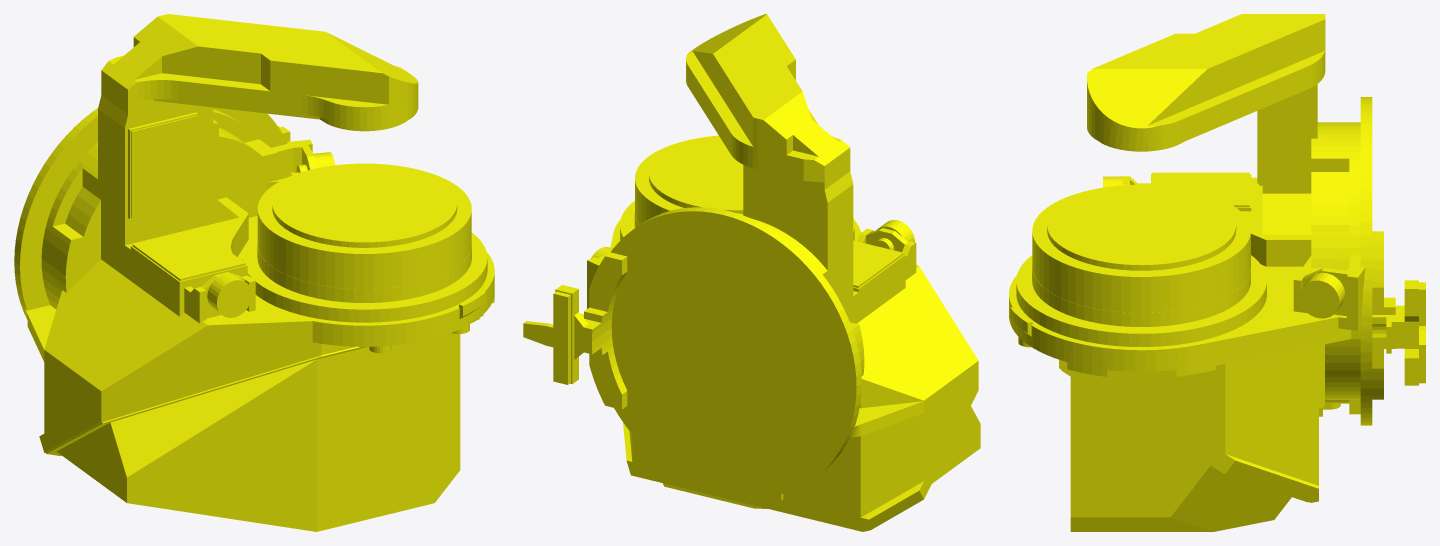
The picture shows the model from 3 angles, left to right: view 1: azimuth 30°, elevation 25°; view 2: azimuth 150°, elevation 25°; view 3: azimuth 270°, elevation 25°; orthographic projection. The views are drawn at different scales.
Visible parts, largest first — view 1: node; view 2: node; view 3: node.
Part boxes in pixels (bbox=[...]): node: bbox=[14, 14, 494, 531]; node: bbox=[523, 14, 980, 531]; node: bbox=[1009, 14, 1425, 531].
Size of the model in its own units: 566 by 632 by 540.
